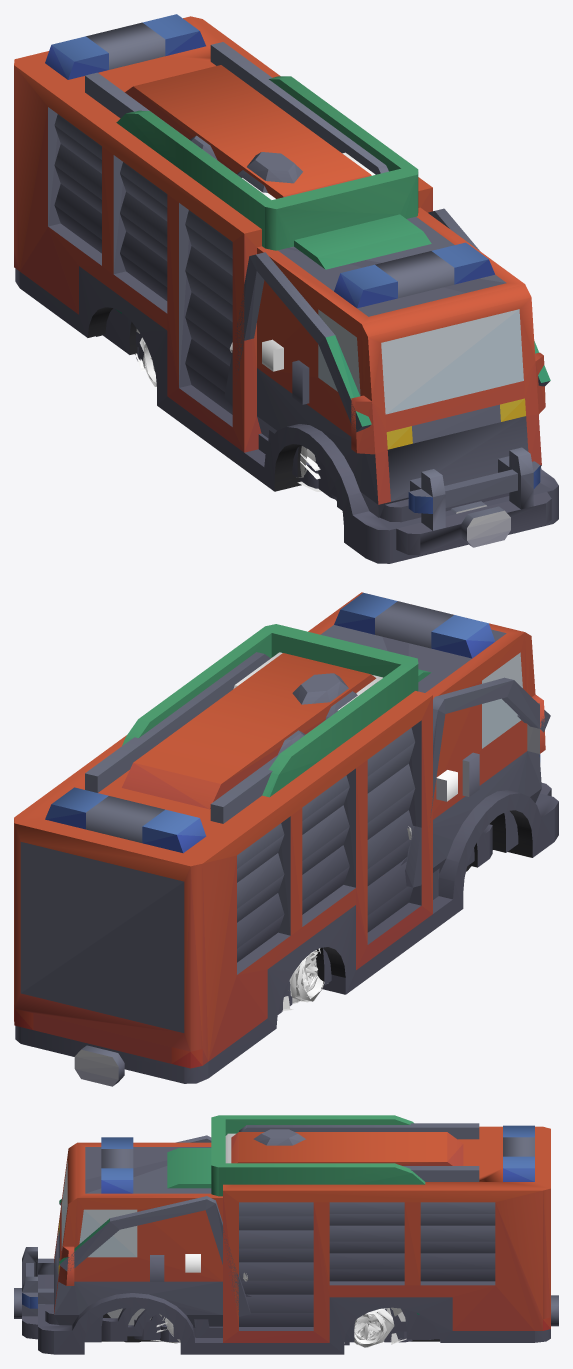
File: traffic_pack.glb
The picture shows the model from 3 angles, top to bottom: view 1: azimuth 30°, elevation 25°; view 2: azimuth 150°, elevation 25°; view 3: azimuth 270°, elevation 25°; orthographic projection. The views are drawn at different scales.
Parts seen in each view (by area): view 1: firetruck, garbage-truck, truck, gtr-sports; view 2: firetruck, garbage-truck, truck, gtr-sports, delivery; view 3: firetruck, garbage-truck, truck, delivery, gtr-sports, endeavour-suv, van, ambulance, sedan-sports.
Boxes of the visible parts, <box> form: firetruck: <box>14,14,558,563</box>; garbage-truck: <box>102,76,550,522</box>; truck: <box>96,152,375,453</box>; gtr-sports: <box>135,340,322,491</box>; firetruck: <box>14,592,558,1086</box>; garbage-truck: <box>122,624,550,1013</box>; truck: <box>233,652,518,985</box>; gtr-sports: <box>282,948,324,1011</box>; delivery: <box>283,824,492,995</box>; firetruck: <box>14,1123,558,1354</box>; garbage-truck: <box>38,1115,439,1339</box>; truck: <box>84,1133,355,1342</box>; delivery: <box>101,1307,406,1341</box>; gtr-sports: <box>151,1308,406,1347</box>; endeavour-suv: <box>159,1272,401,1344</box>; van: <box>133,1313,433,1339</box>; ambulance: <box>127,1309,349,1345</box>; sedan-sports: <box>160,1325,412,1342</box>.
Size of the model in its own units: 2.5 by 3.3 by 9.
